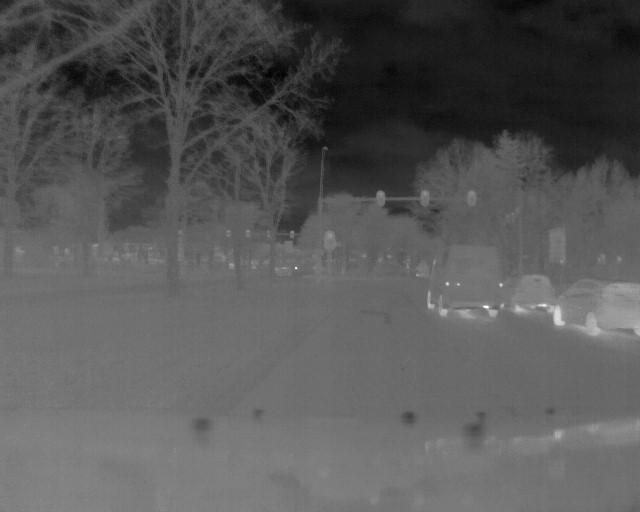car: (423, 241, 510, 318), (553, 279, 640, 336), (501, 274, 560, 316)
